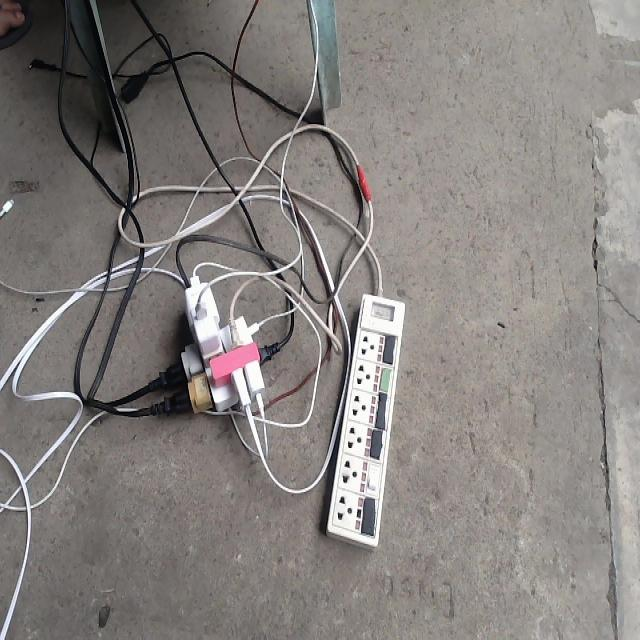-: (163, 276, 264, 417)
